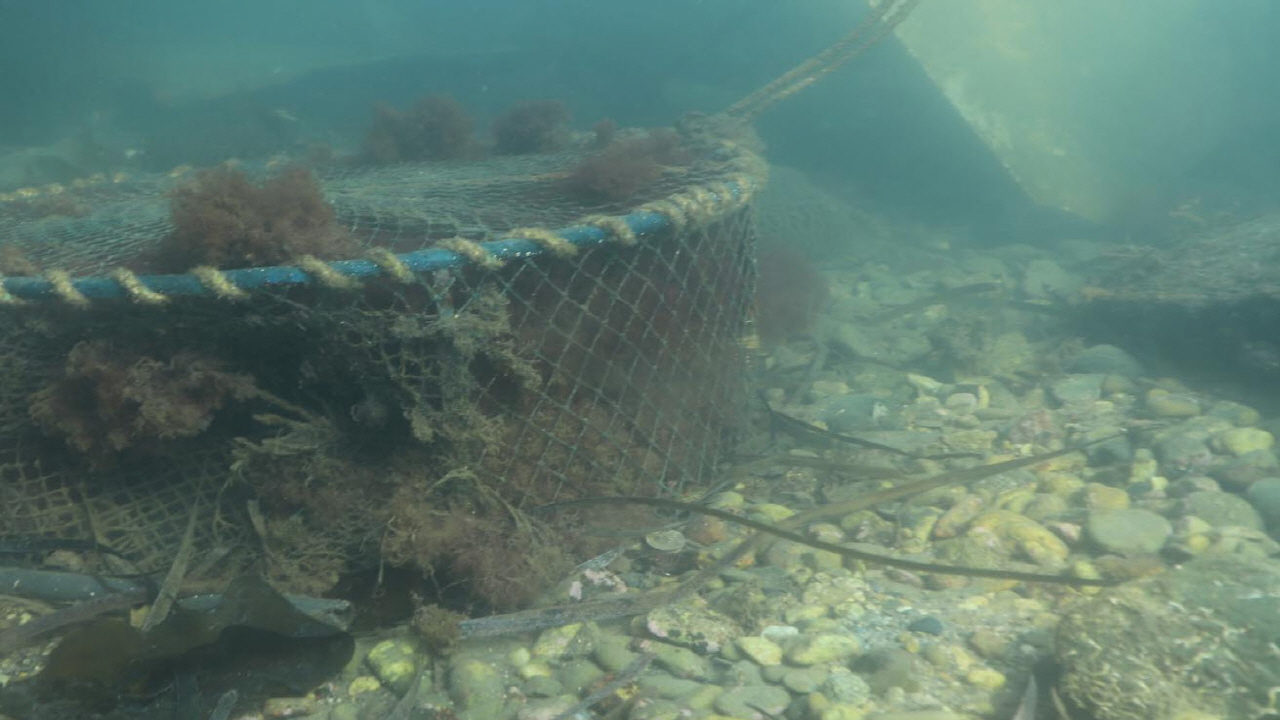bundle of ropes: (674, 0, 913, 134)
circular fish trap: (0, 124, 769, 586)
